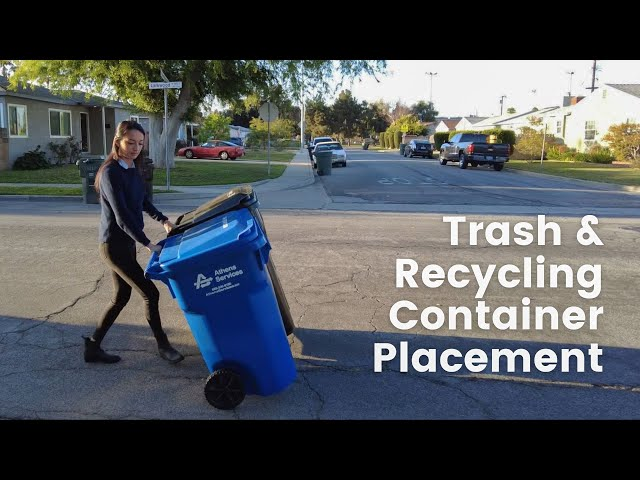Car: (435, 132, 515, 169), (173, 139, 253, 160)
Person: (74, 117, 181, 372)
TrashBin: (145, 215, 305, 407), (309, 147, 334, 176)
